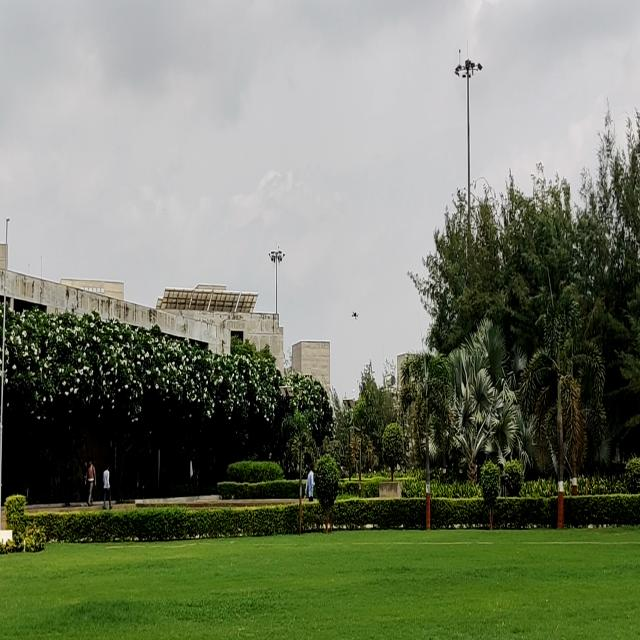drone: (348, 306, 361, 326)
